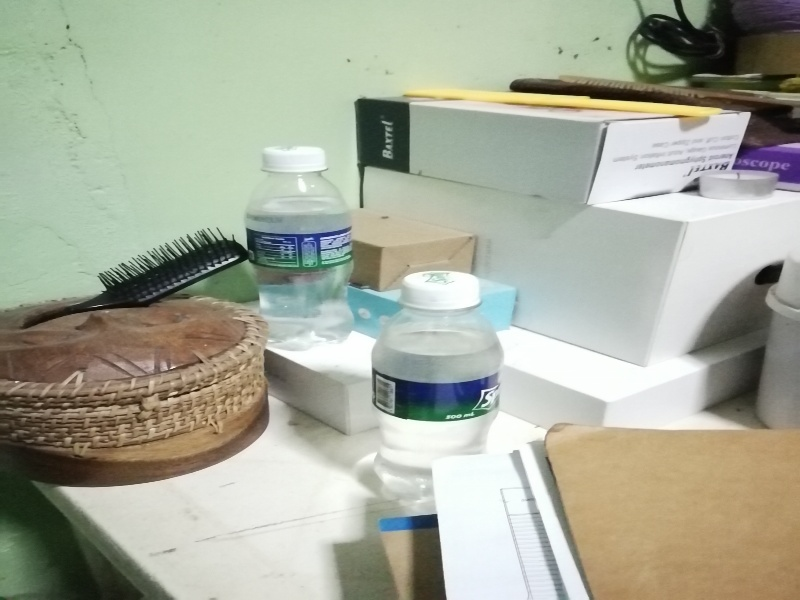PET #1: (368, 266, 507, 517), (244, 137, 354, 345)
